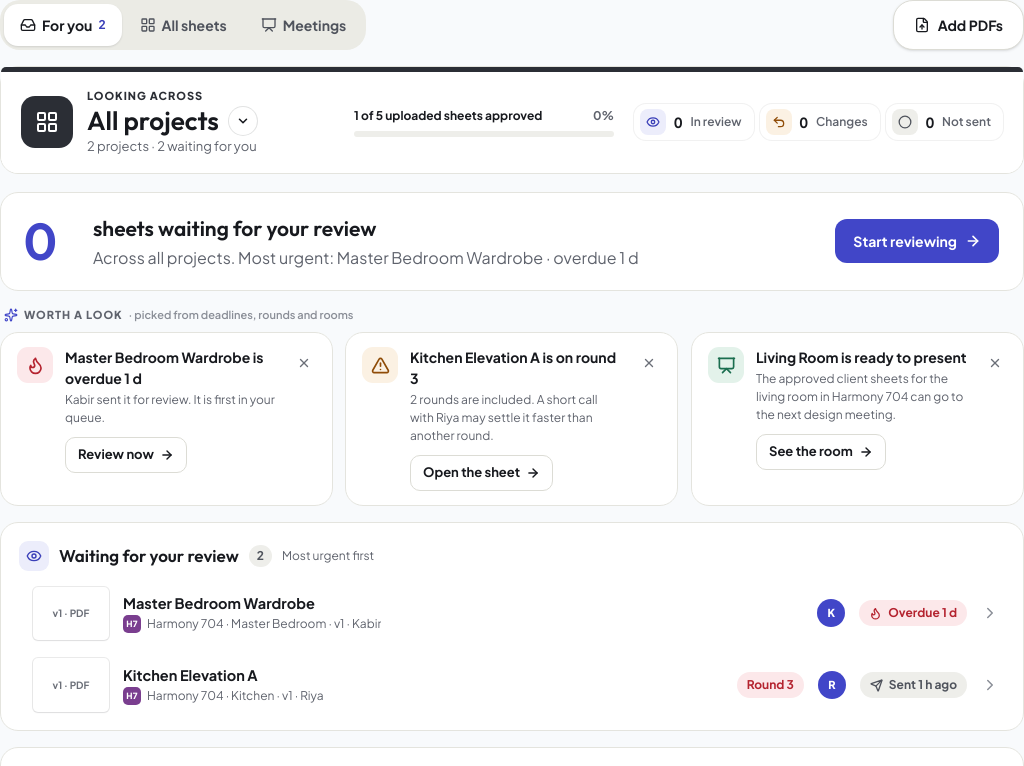
Scenario: Design Desk › switches project from the band, by search and Enter
Click the button with aria-label "Switch project".
click(174, 122)  # box [15,82,334,162]
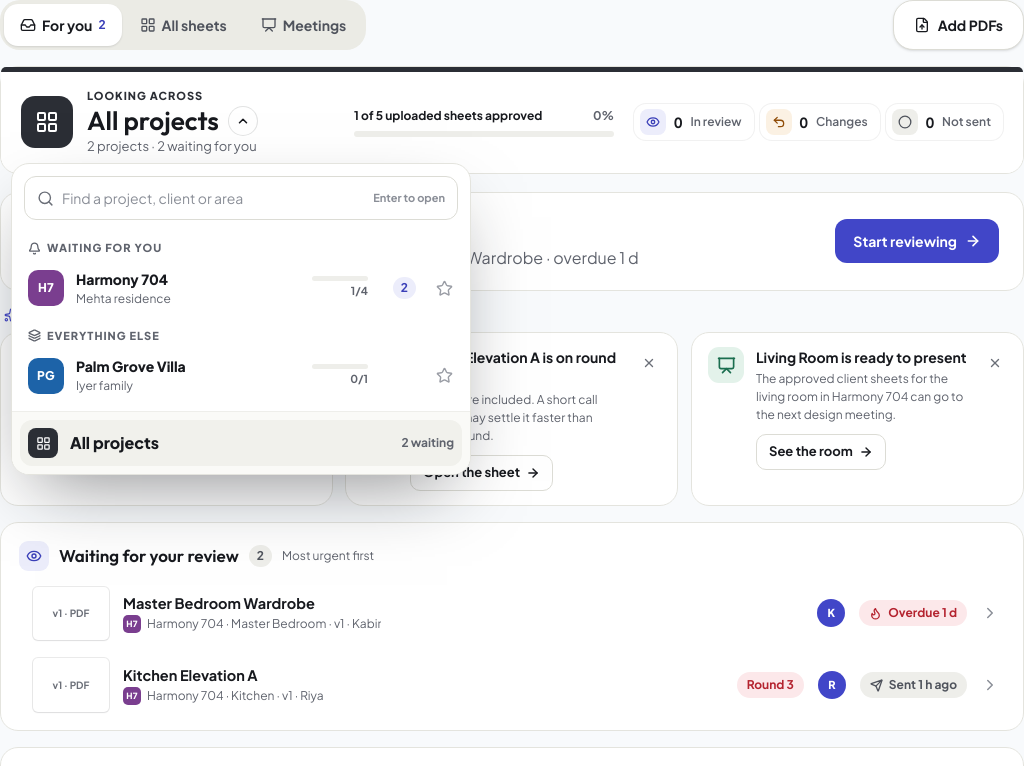
Type "palm" into the field named "Find a project".
click(214, 198); type("palm")  # box [62,188,365,208]
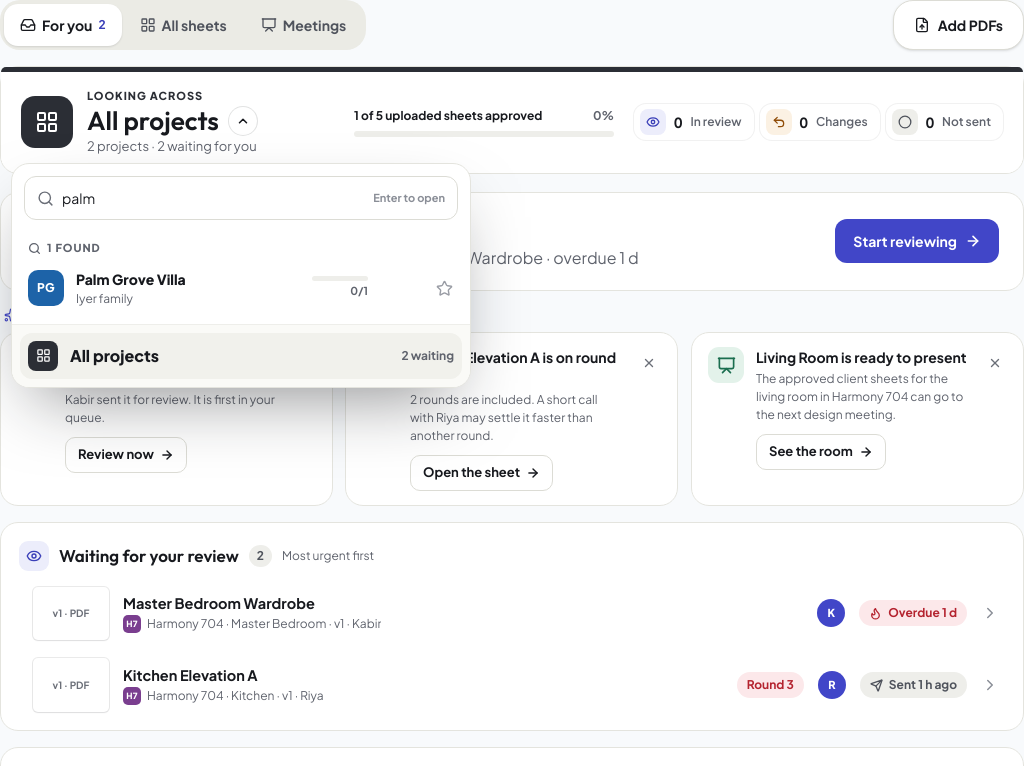
Press Enter in the field named "Find a project", box [62,188,365,208]
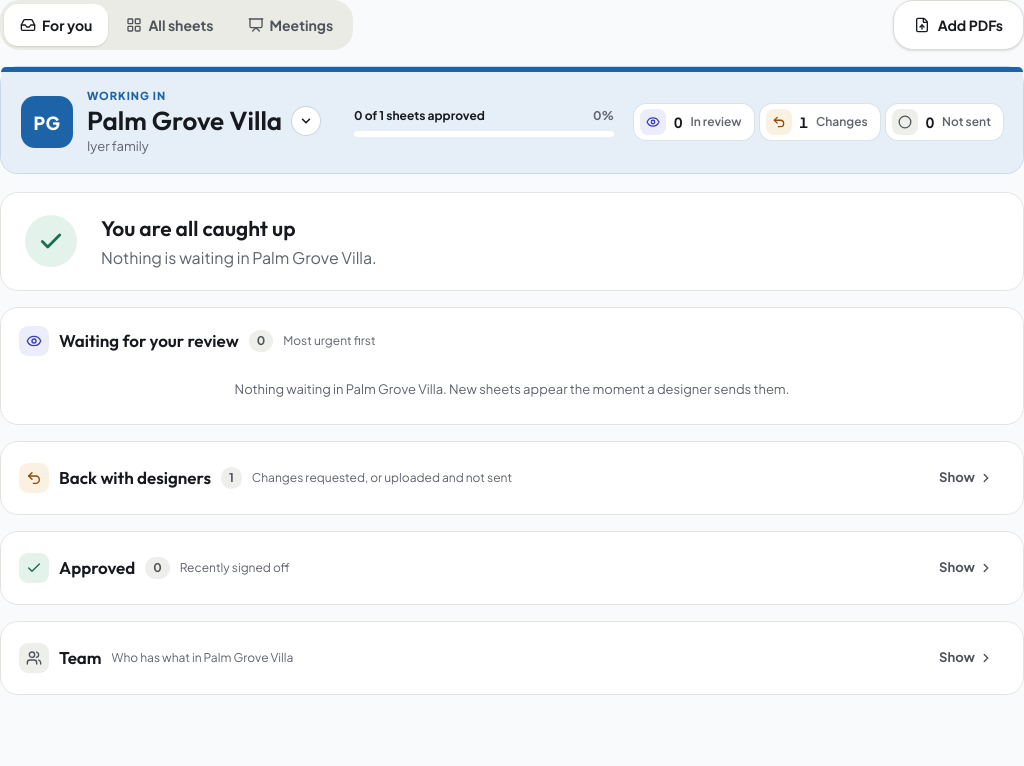
Check: the text "Palm Grove Villa" is shown, box [87,104,282,137]
Check: the text "Iyer family" is shown, box [87,138,149,154]
Check: the text "Working in" is shown, box [87,89,166,102]
